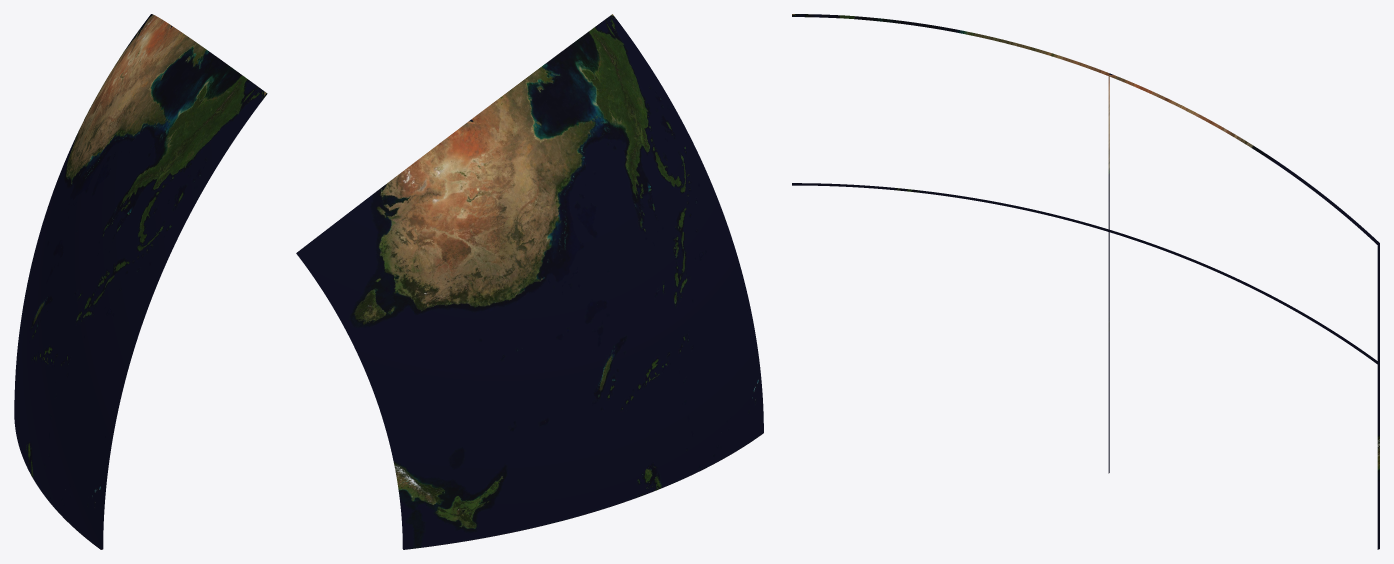
3 views of the same model, side by side, from view 1: azimuth 30°, elevation 25°; view 2: azimuth 150°, elevation 25°; view 3: azimuth 270°, elevation 25° (orthographic). The views are drawn at different scales.
Visible parts, largest first — view 1: DefaultName.012, DefaultName.009, DefaultName.003, DefaultName.006; view 2: DefaultName.003, DefaultName.012, DefaultName.006, DefaultName.009; view 3: DefaultName.003, DefaultName.006, DefaultName.012, DefaultName.009.
Part boxes in pixels (x1,y1,x2,y2): DefaultName.012: (59,26,267,313); DefaultName.009: (20,231,145,549); DefaultName.003: (51,14,171,230); DefaultName.006: (14,196,59,448); DefaultName.003: (296,119,574,396); DefaultName.012: (471,14,724,306); DefaultName.006: (375,307,611,549); DefaultName.009: (575,217,763,506); DefaultName.003: (1109,73,1379,363); DefaultName.006: (1108,230,1379,549); DefaultName.012: (792,14,1109,230); DefaultName.009: (792,183,1109,473).
Size of the model in its own units: 31962 by 45100 by 44883.
Materials: 4 (4 with a texture image).
